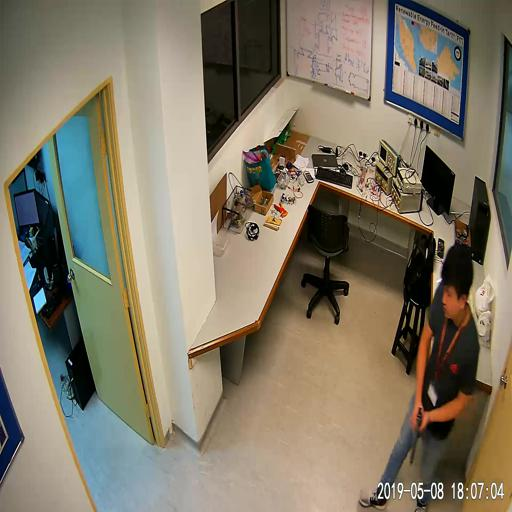pistol: (409, 405, 423, 462)
